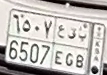0: (30, 25, 41, 64)
5: (19, 19, 31, 62)
6: (8, 13, 20, 61)
7: (39, 20, 54, 65)
B: (76, 32, 87, 68)
E: (55, 24, 66, 65)
G: (65, 27, 76, 67)
